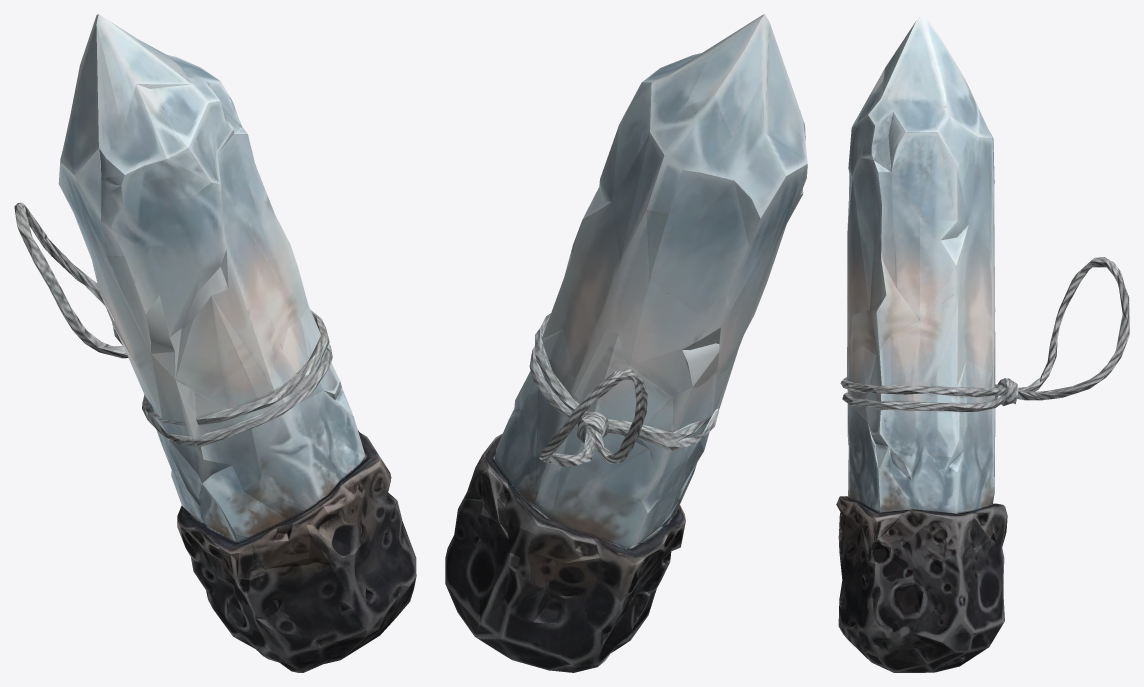
The model's file is east_splinter.glb.
3 renders of one model, left to right at view 1: azimuth 30°, elevation 25°; view 2: azimuth 150°, elevation 25°; view 3: azimuth 270°, elevation 25°, orthographic. The views are drawn at different scales.
Parts seen in each view (by area): view 1: Mesh_0; view 2: Mesh_0; view 3: Mesh_0.
Part boxes in pixels (bbox=[...]): Mesh_0: bbox=[14, 14, 416, 672]; Mesh_0: bbox=[445, 14, 807, 672]; Mesh_0: bbox=[836, 14, 1129, 672].
Size of the model in its own units: 0.5502 by 1.1 by 0.5118.
Materials: 1 (1 with a texture image).
